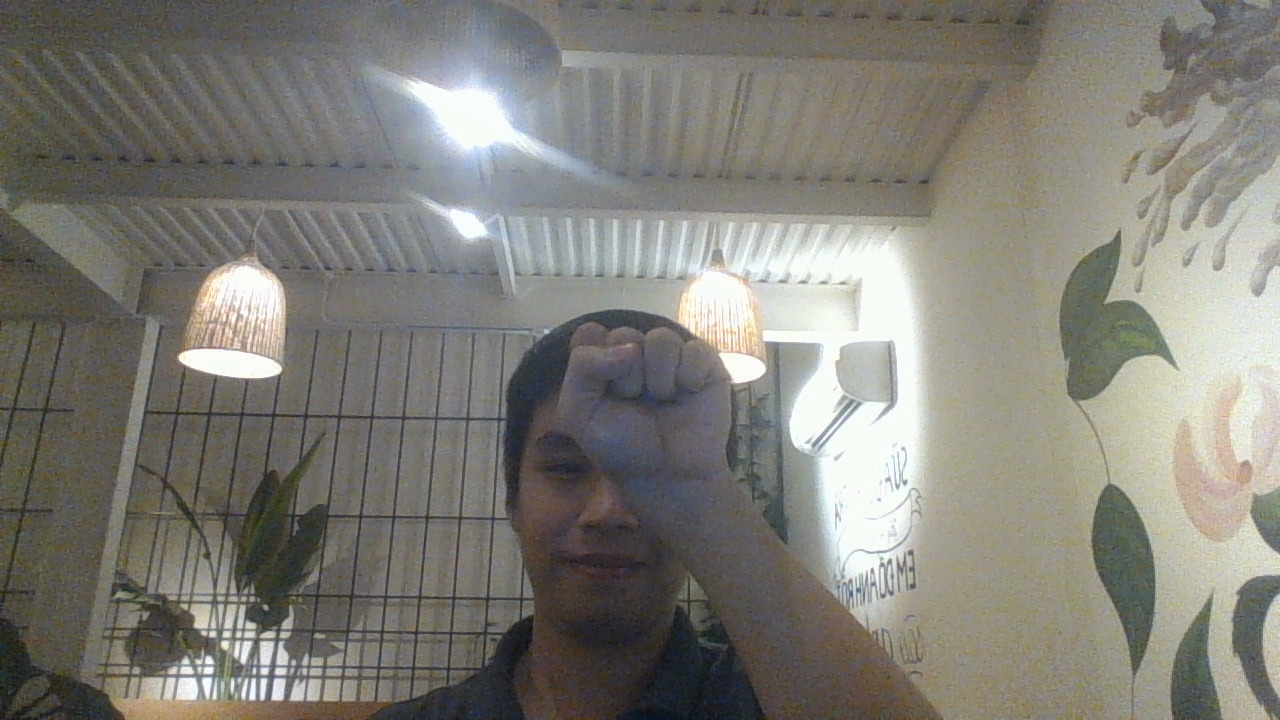stop: (556, 322, 737, 482)
